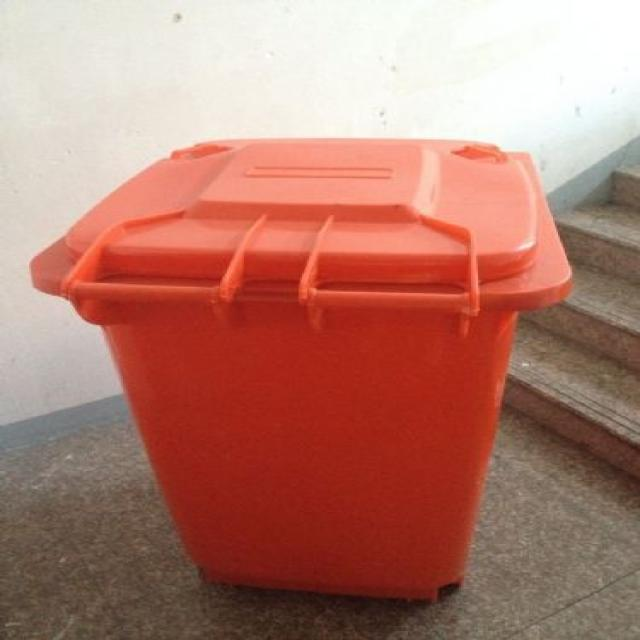garbage_bin: (26, 134, 572, 603)
